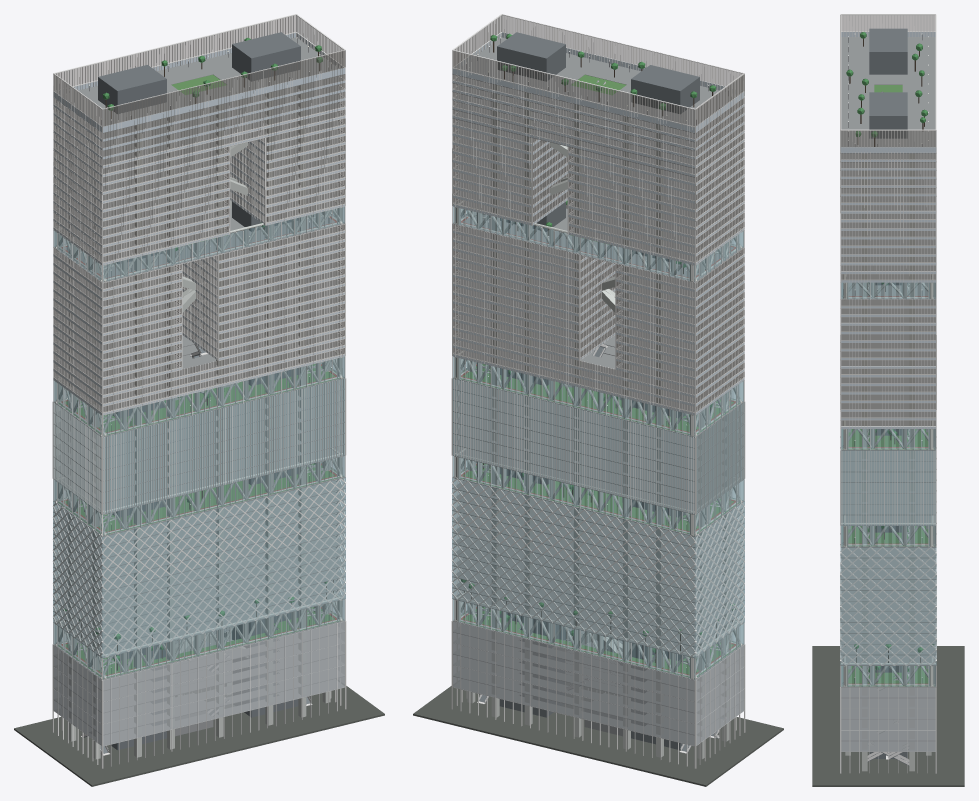
Rendered from the_stack.optimized.glb.
3 views of the same model, side by side, from view 1: azimuth 30°, elevation 25°; view 2: azimuth 150°, elevation 25°; view 3: azimuth 270°, elevation 25° (orthographic). The views are drawn at different scales.
Visible parts, largest first — view 1: Web_Stack_Glass_Cool_Web, Web_Stack_Core, Web_Stack_Apartment_Frame, Ground_Site, Web_Stack_Glass_Frost_Web, Web_Stack_Foliage; view 2: Web_Stack_Glass_Cool_Web, Web_Stack_Core, Web_Stack_Apartment_Frame, Ground_Site, Web_Stack_Glass_Frost_Web, Web_Stack_Foliage; view 3: Web_Stack_Core, Web_Stack_Glass_Cool_Web, Ground_Site, Web_Stack_Apartment_Frame, Web_Stack_Glass_Frost_Web, Web_Stack_Foliage.
Part boxes in pixels (bbox=[...]): Web_Stack_Glass_Cool_Web: bbox=[53, 15, 345, 679]; Web_Stack_Core: bbox=[53, 32, 345, 753]; Web_Stack_Apartment_Frame: bbox=[52, 14, 346, 768]; Ground_Site: bbox=[14, 84, 384, 786]; Web_Stack_Glass_Frost_Web: bbox=[53, 621, 344, 745]; Web_Stack_Foliage: bbox=[63, 37, 327, 661]; Web_Stack_Glass_Cool_Web: bbox=[452, 15, 744, 679]; Web_Stack_Core: bbox=[452, 32, 744, 751]; Web_Stack_Apartment_Frame: bbox=[451, 14, 745, 768]; Ground_Site: bbox=[413, 80, 783, 786]; Web_Stack_Glass_Frost_Web: bbox=[453, 621, 744, 745]; Web_Stack_Foliage: bbox=[461, 33, 735, 652]; Web_Stack_Core: bbox=[840, 28, 936, 765]; Web_Stack_Glass_Cool_Web: bbox=[840, 15, 936, 686]; Ground_Site: bbox=[812, 92, 964, 786]; Web_Stack_Apartment_Frame: bbox=[840, 14, 936, 773]; Web_Stack_Glass_Frost_Web: bbox=[841, 687, 935, 751]; Web_Stack_Foliage: bbox=[846, 32, 933, 672].
Size of the model in its own units: 139 by 300 by 64.
11 materials, 11 textured.
